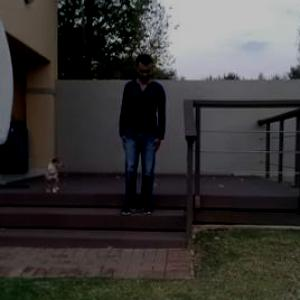follow: (121, 48, 166, 226)
